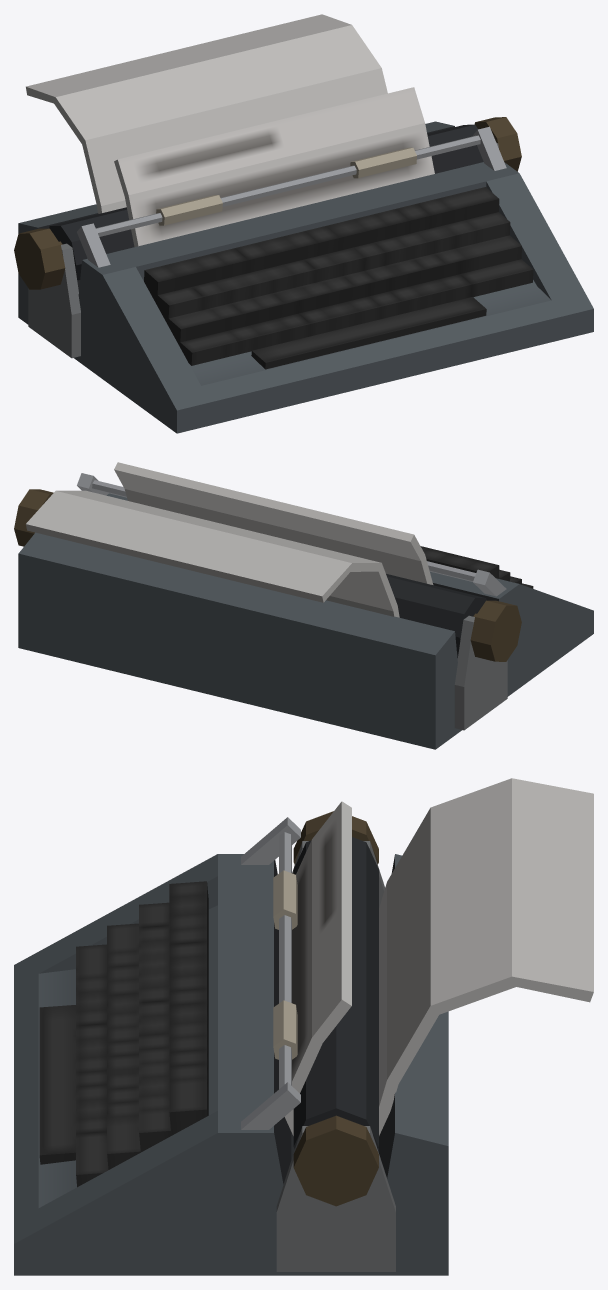
The model's file is SM_Prop_Typewriter_01.glb.
3 views of the same model, one above another, from view 1: azimuth 30°, elevation 25°; view 2: azimuth 150°, elevation 25°; view 3: azimuth 270°, elevation 25° (orthographic). The views are drawn at different scales.
Parts seen in each view (by area): view 1: SM_Prop_Typewriter_01; view 2: SM_Prop_Typewriter_01; view 3: SM_Prop_Typewriter_01.
Boxes of the visible parts, x1=… form: SM_Prop_Typewriter_01: x1=14, y1=14, x2=593, y2=433; SM_Prop_Typewriter_01: x1=14, y1=462, x2=593, y2=749; SM_Prop_Typewriter_01: x1=14, y1=778, x2=593, y2=1275.
Size of the model in its own units: 0.5517 by 0.2088 by 0.4239.
Materials: 1 (1 with a texture image).
